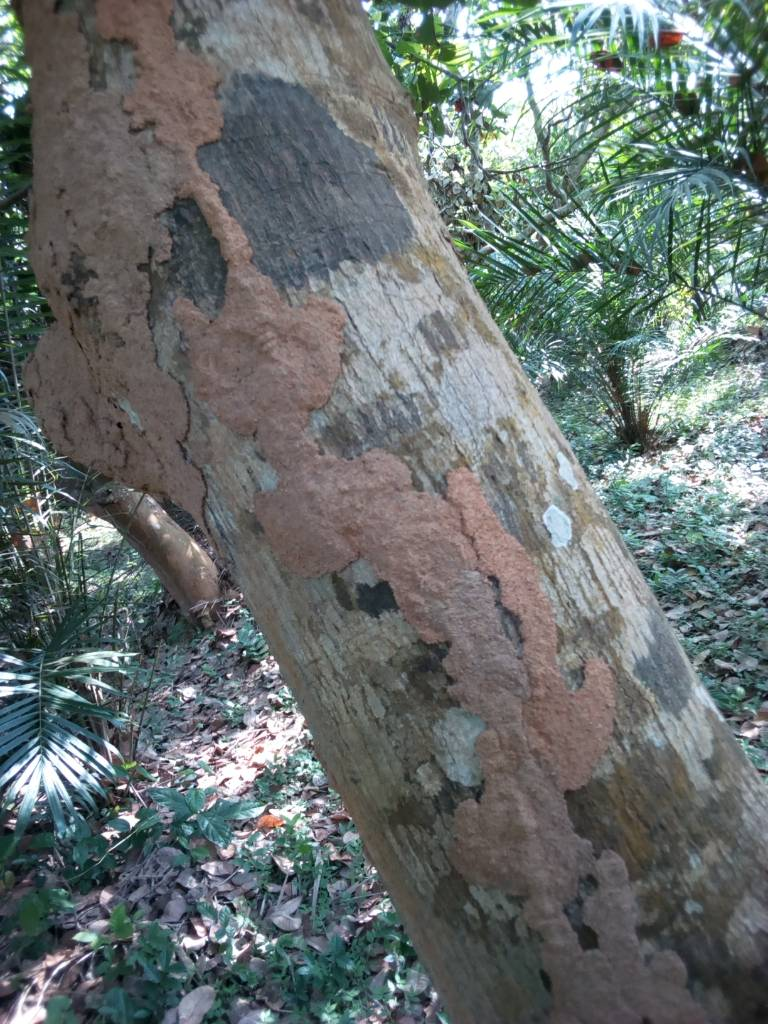Termites: (188, 241, 705, 1024), (32, 14, 219, 500)
